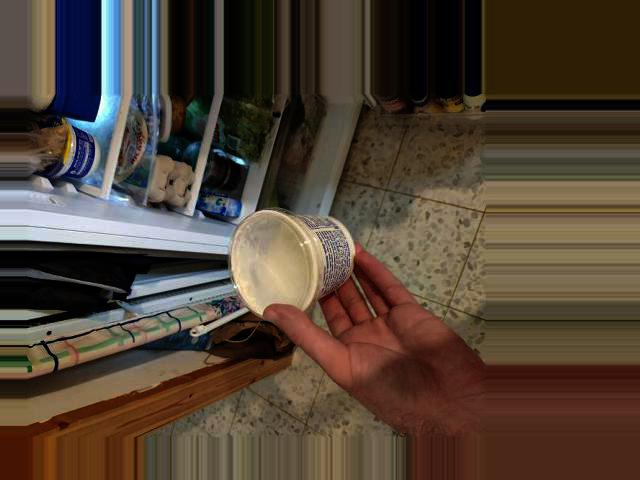cotage: (236, 216, 356, 315)
